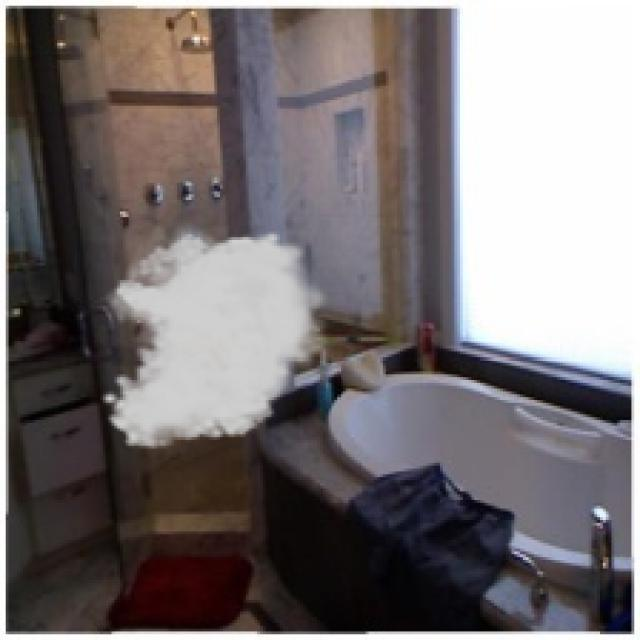Smoke: (100, 217, 337, 452)
